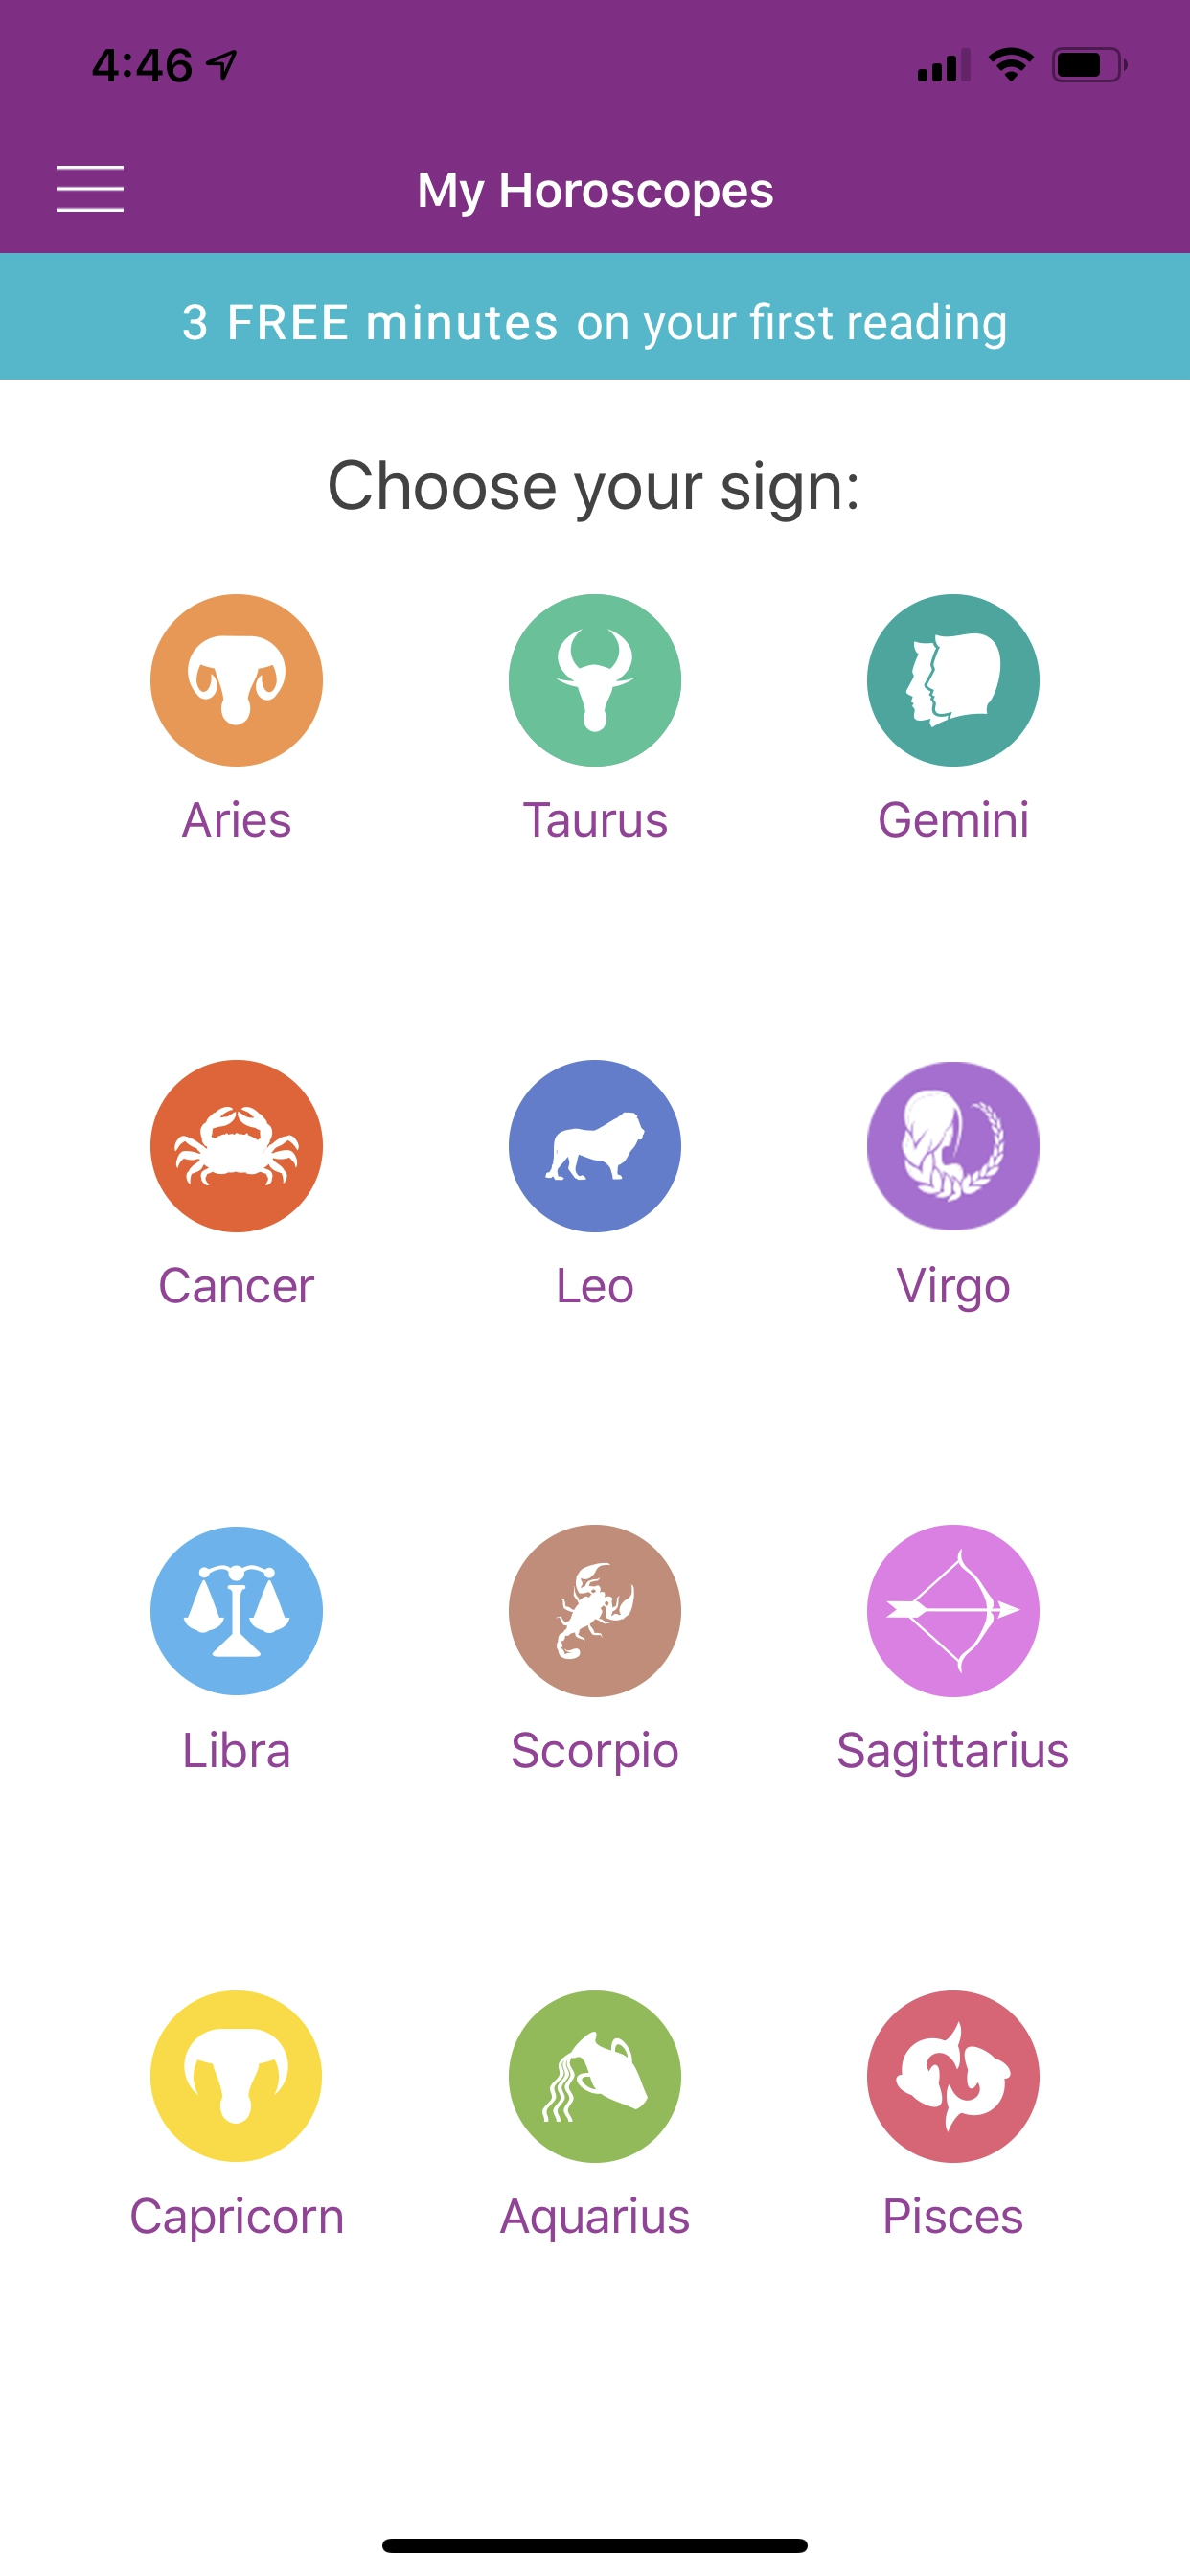Icon: (58, 164, 125, 214)
Image: (508, 1525, 682, 1699), (866, 1989, 1039, 2164), (151, 1060, 325, 1232), (866, 1525, 1039, 1697), (508, 1060, 680, 1232), (866, 595, 1039, 767), (510, 595, 682, 767), (151, 595, 324, 767), (510, 1989, 680, 2164), (865, 1061, 1039, 1232), (151, 1989, 322, 2162), (151, 1526, 324, 1695), (419, 172, 773, 217)
Text: (184, 302, 1006, 352), (330, 458, 856, 522), (838, 1732, 1068, 1778), (131, 2195, 344, 2242), (500, 2195, 689, 2241), (511, 1732, 679, 1778), (159, 1267, 316, 1303), (879, 800, 1027, 838), (884, 2195, 1022, 2234), (523, 802, 667, 838), (896, 1267, 1009, 1313), (182, 800, 291, 838), (186, 1732, 291, 1768), (559, 1268, 633, 1303)
UpperTaskBar: (94, 48, 1128, 84)
